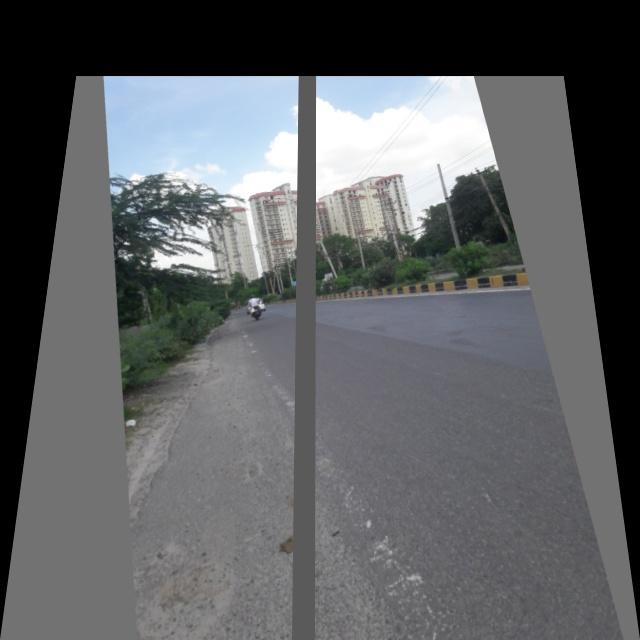Gap_in_Median: (302, 261, 317, 275)
